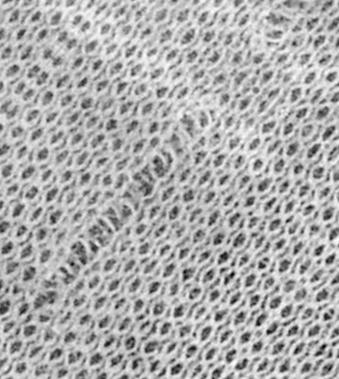slub: (38, 109, 221, 312), (258, 0, 322, 58)
